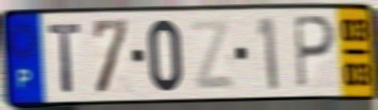0: (146, 17, 184, 95)
1: (255, 15, 281, 93)
7: (91, 17, 131, 97)
P: (291, 14, 337, 92)
T: (47, 21, 84, 95)
Z: (188, 16, 238, 93)
